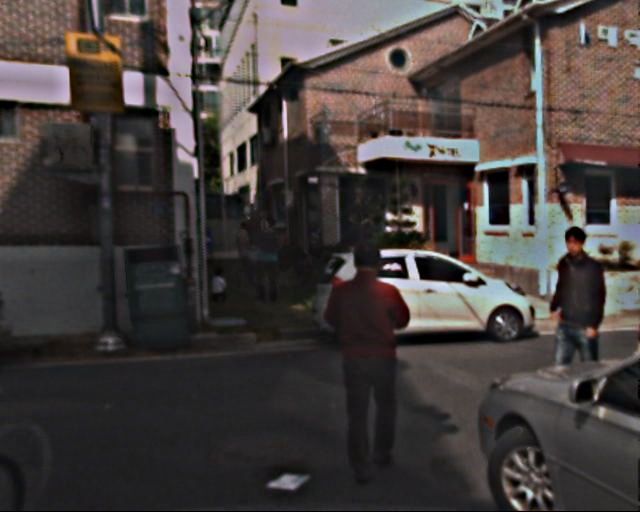person: (320, 241, 418, 484), (532, 230, 620, 447), (253, 216, 289, 303), (233, 218, 260, 284), (212, 267, 229, 307)
